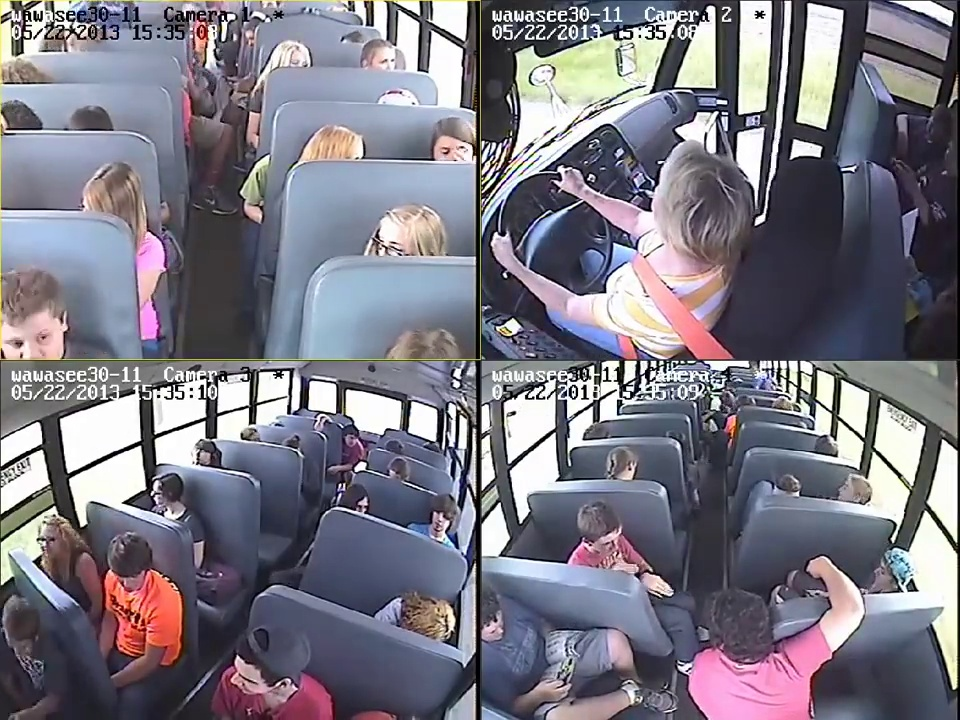face: (2, 309, 51, 361), (38, 524, 57, 557), (372, 46, 396, 67), (432, 506, 451, 530), (194, 447, 211, 463)
